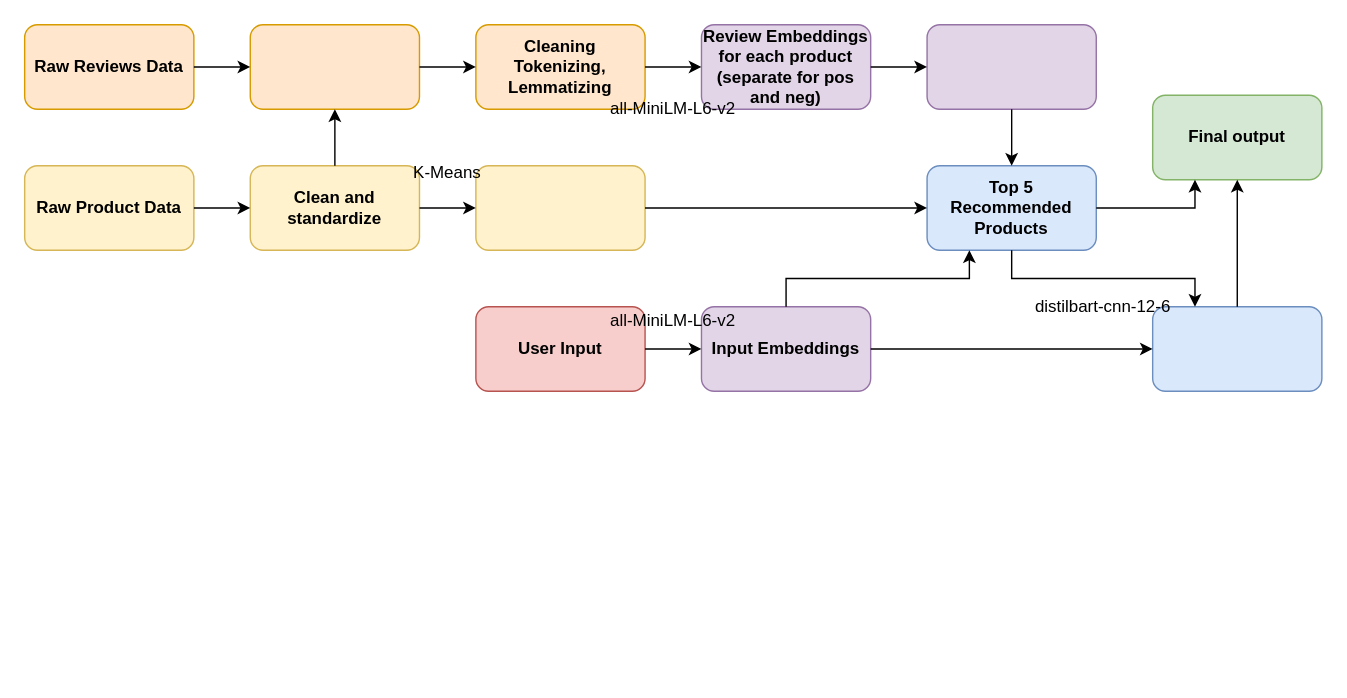
This 1347x698 diagram has some shape labels left out. Here are the shapes that lost their labels. From the top down, the centre of each, then its label:
At point 334,66: "Data Aggregation (Reviews w products)".
At point 1011,66: "Product Profile Embeddings Store (for quick access)".
At point 559,207: "Client Segments".
At point 1236,348: "Pros | Cons Summarisation based on input".
